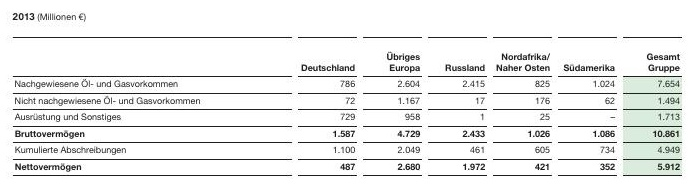table: (0, 0, 695, 187)
